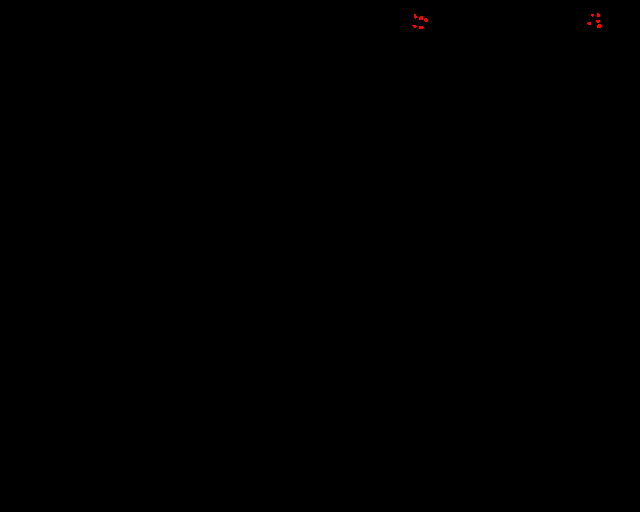Target: (597, 24, 602, 28), (419, 16, 423, 20), (424, 18, 428, 22), (414, 14, 417, 19), (412, 25, 417, 28), (419, 26, 424, 29), (597, 13, 600, 17), (596, 20, 600, 23), (587, 22, 591, 25), (591, 14, 594, 17)
